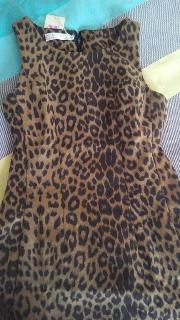vest: (0, 17, 180, 320)
